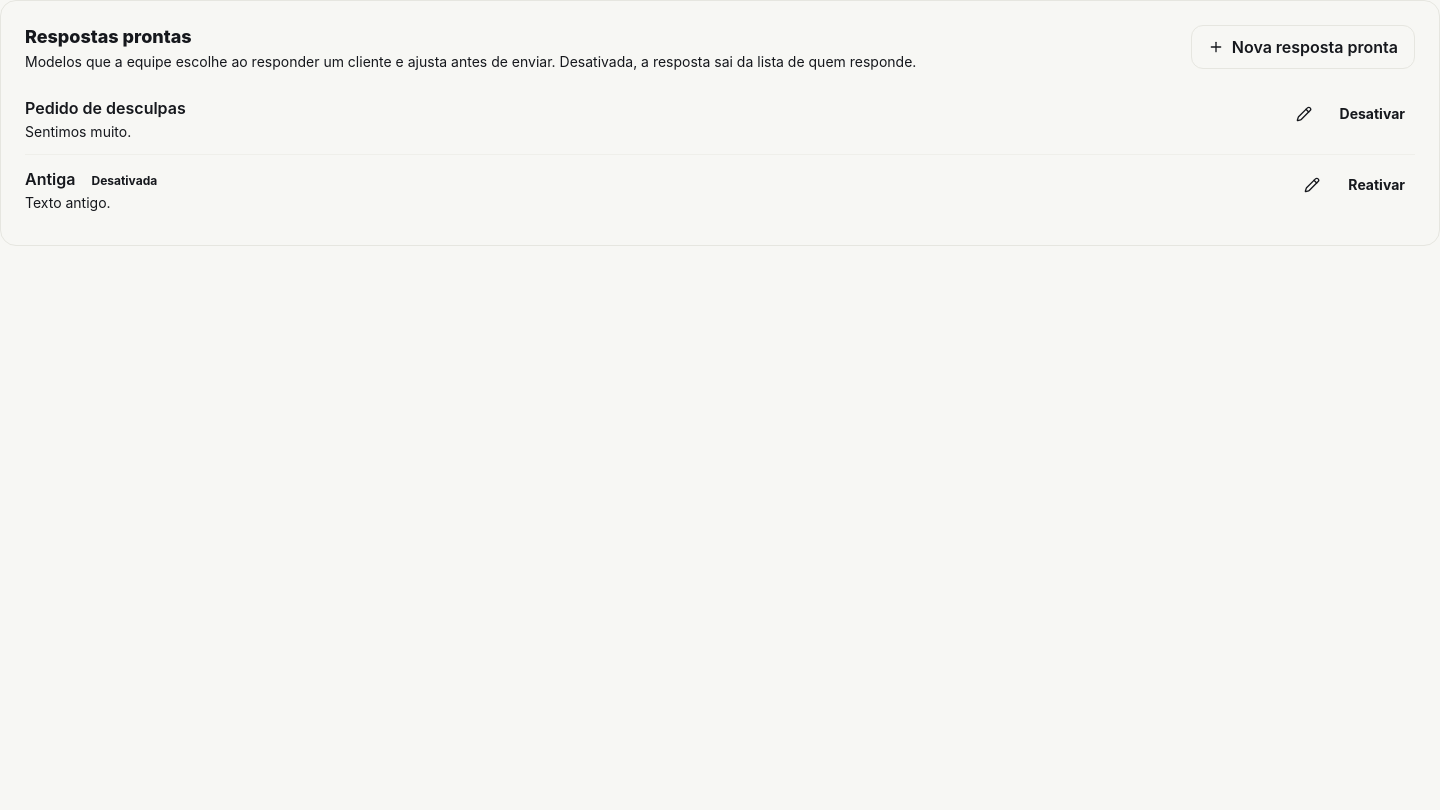
Test: respostas prontas nas configurações › Esc cancela a edição sem mandar nada
Click the button named "Editar Pedido de desculpas": (1304, 114) [1286, 96, 1322, 132]
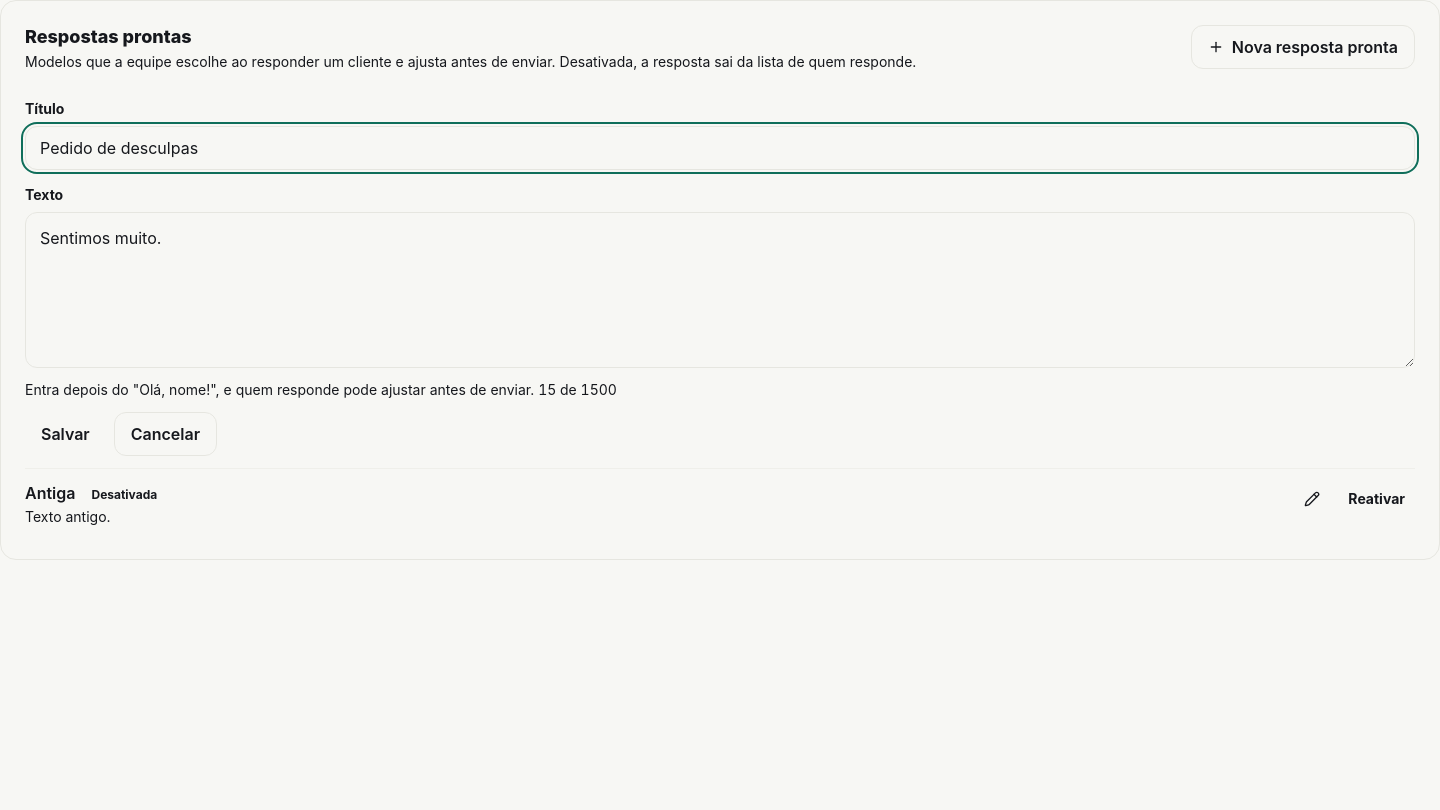
In the field labelled "Título": (720, 148) [25, 126, 1415, 170], type " mudado"
Then press Escape
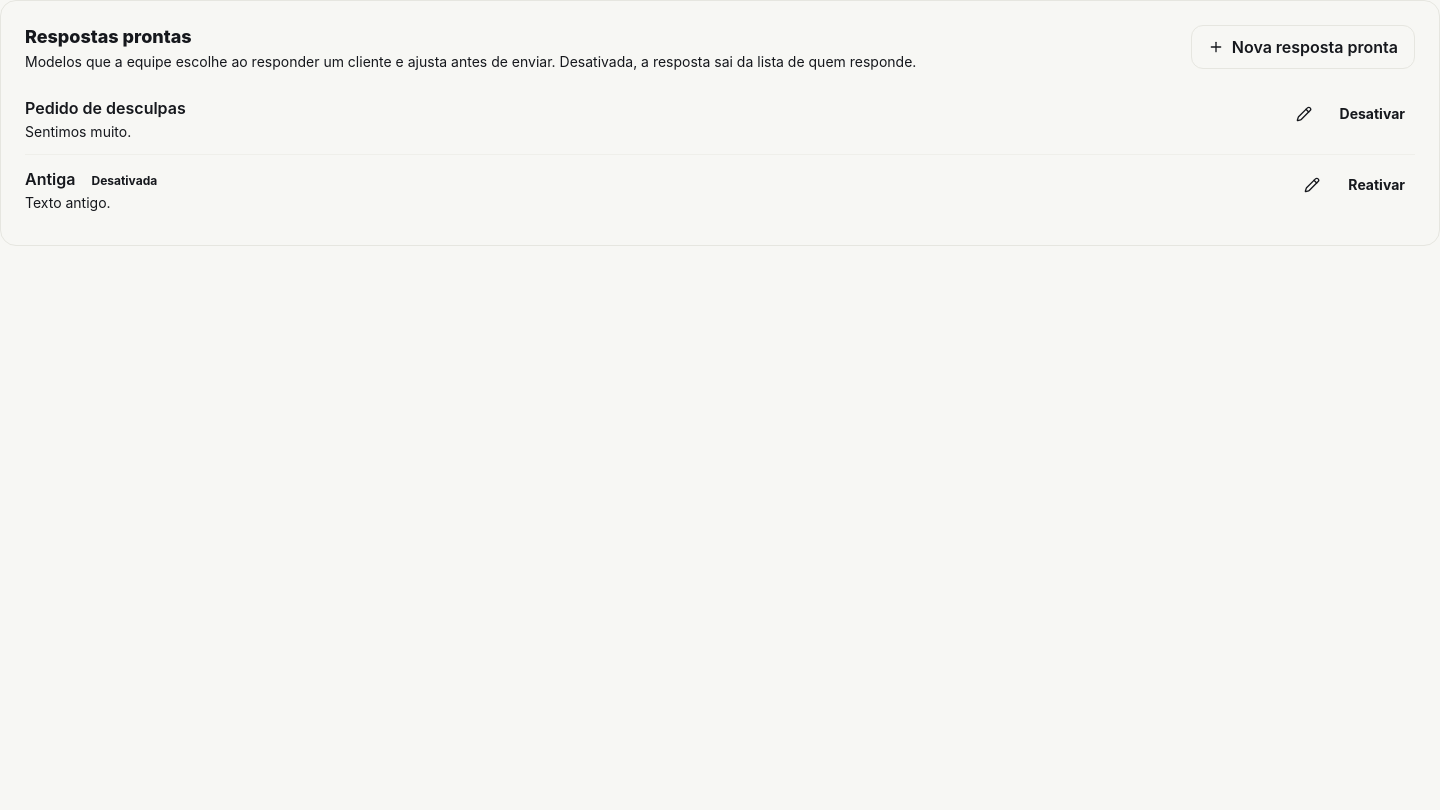
Expected: the label labelled "Título" is gone
